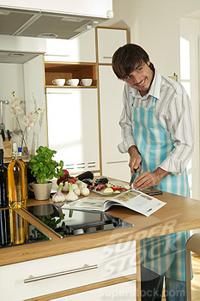person: (112, 44, 194, 301)
